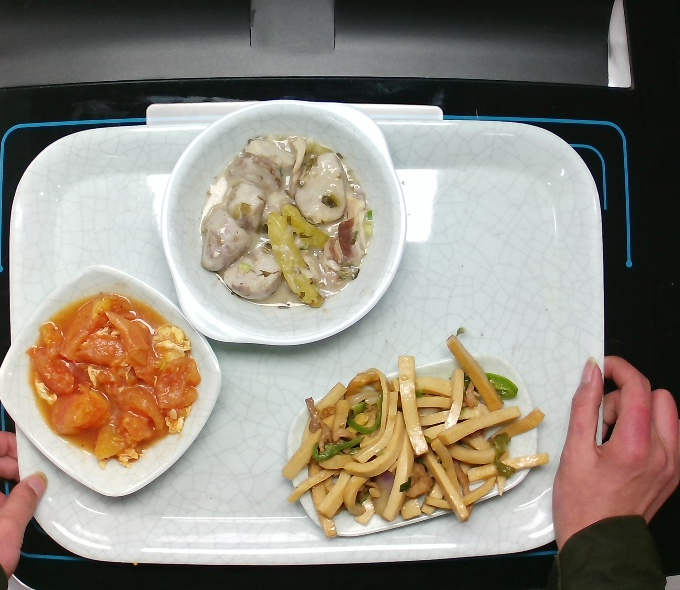wcq-FanQieChaoDan: (23, 288, 207, 474)
wcq-QianYeDouFu: (278, 324, 552, 544)
wcq-YangYu: (195, 129, 378, 315)
